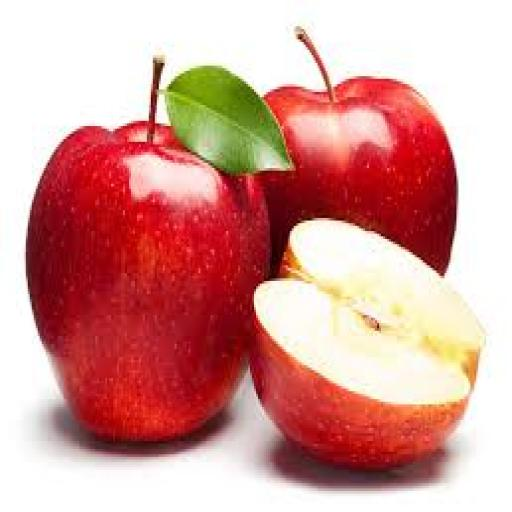Apple: (26, 119, 269, 441), (251, 221, 484, 469), (260, 29, 456, 273)
